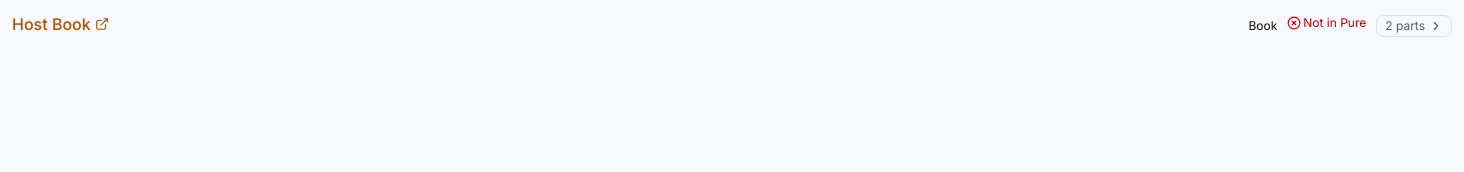
Test: <GapEntryList> groups › reveals the parts on toggle and drops their PartChip
Click the button "2 parts" at (1414, 26), box [1376,15,1452,37]
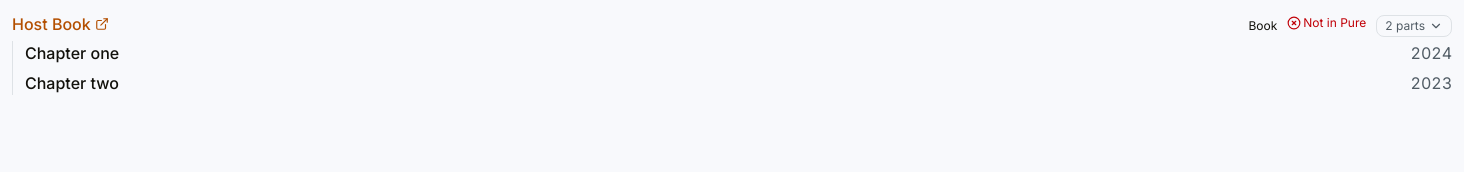
Expected: the text "Chapter one" is shown, [25,43,119,63]
Expected: the text "Chapter two" is shown, [25,73,119,93]
Expected: the button "2 parts" is expanded, [1376,15,1452,37]
